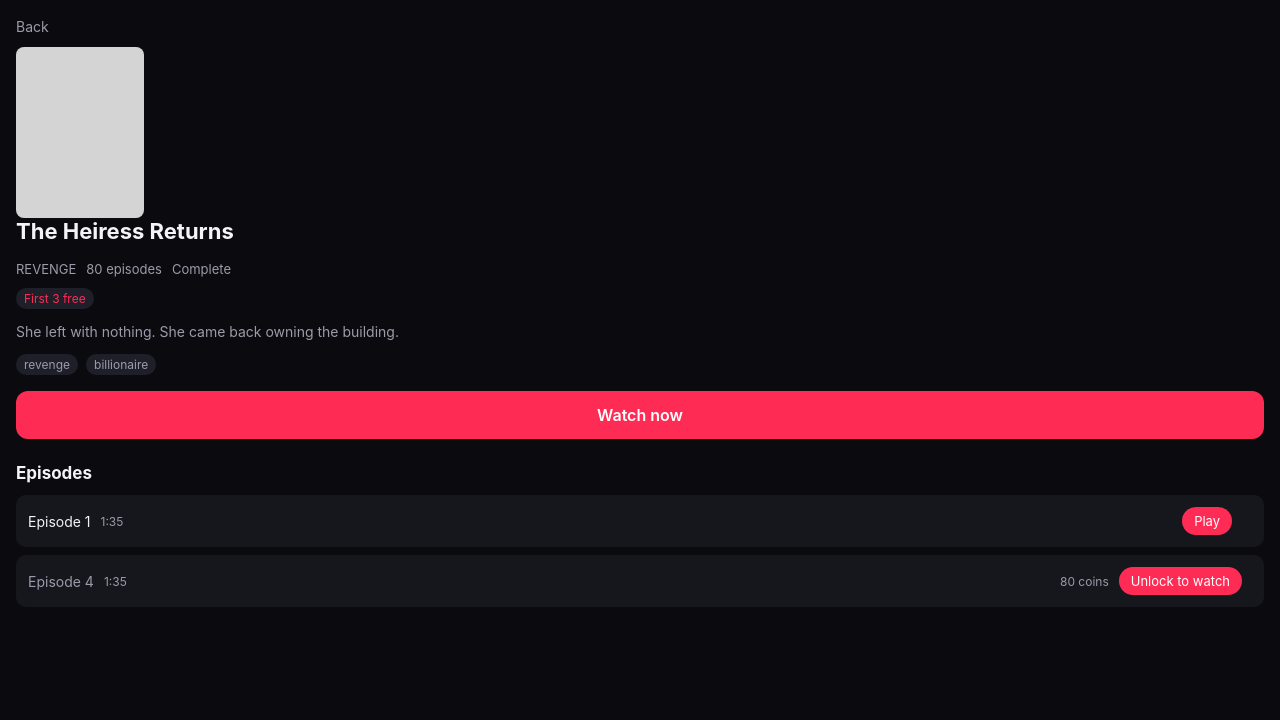
it: the unlock panel opens from the episode list › opens for the episode whose row was tapped
Check: the list with test id "episode-list" is shown, box [16, 495, 1264, 607]
Click the button with test id "episode-action" showing "Unlock to watch". click: (1180, 581)
box: [1119, 567, 1242, 595]
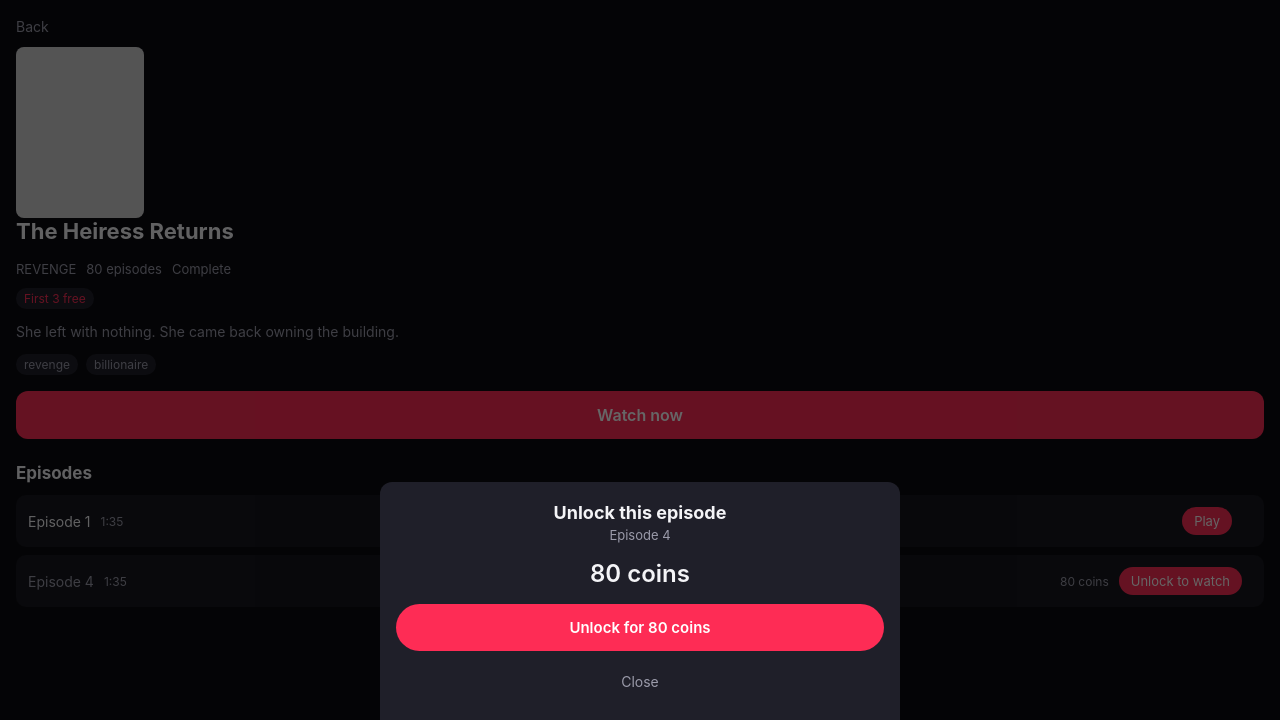
Check: the element with test id "unlock-panel" is shown
Check: the text with test id "unlock-price" shows "80", box [590, 559, 690, 588]
